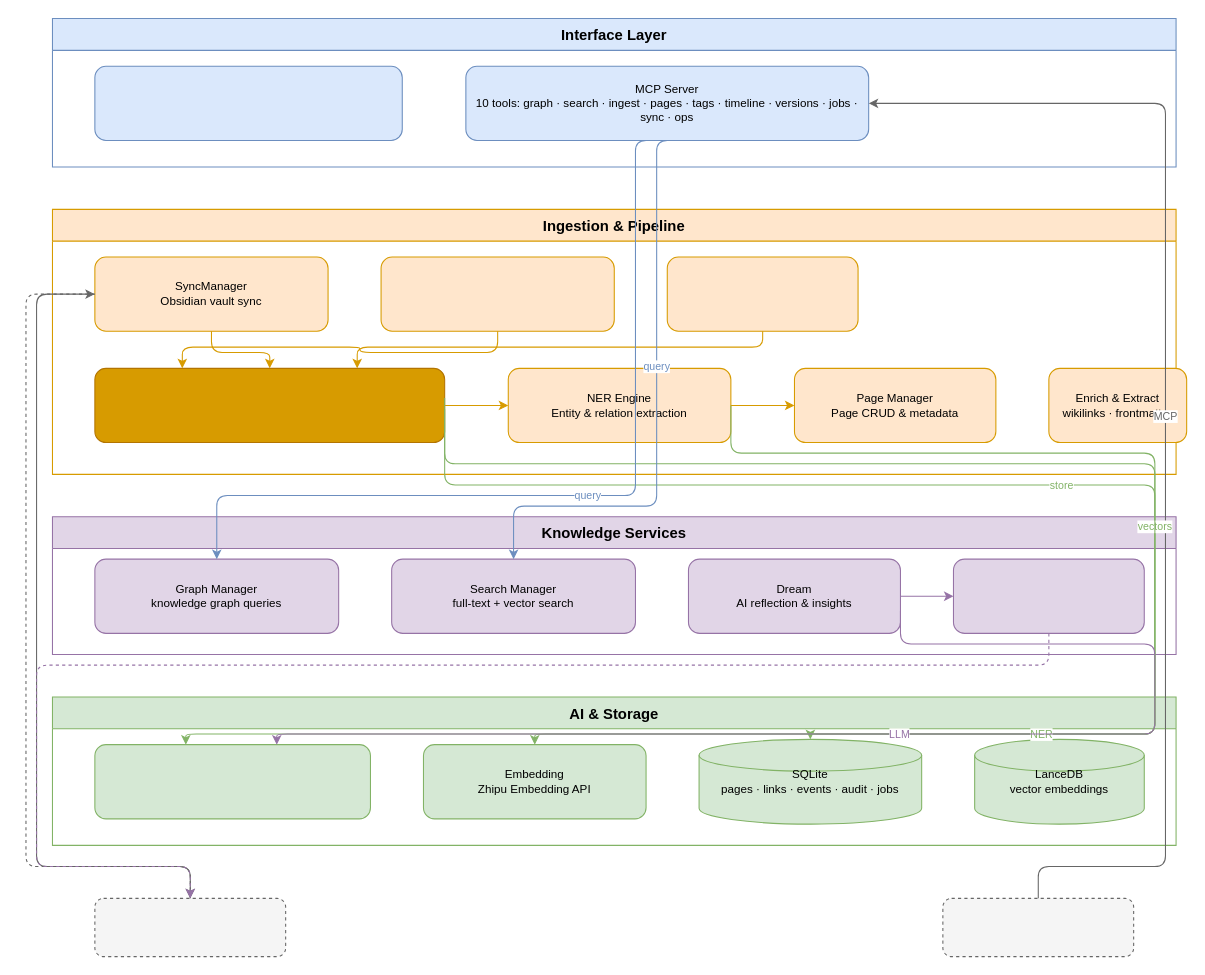
This 1205x975 diagram has some shape labels left out. Here are the shapes that lost their labels. From the top down, the box of each, then its label:
(94, 65, 402, 140): CLI Commands brain · search · server · backup · maintenance · content · edges
(380, 256, 614, 331): IngestManager API-based ingestion
(666, 256, 858, 331): File Watcher watch vault changes
(94, 367, 445, 443): ContentPipeline Orchestrator: chunk → embed → NER → index
(952, 558, 1144, 633): Writeback write findings to vault
(94, 744, 370, 819): LLM Providers DeepSeek · Zhipu GLM
(94, 897, 286, 957): Obsidian Vault (Markdown files)
(942, 897, 1134, 957): External AI Agents (via MCP protocol)
